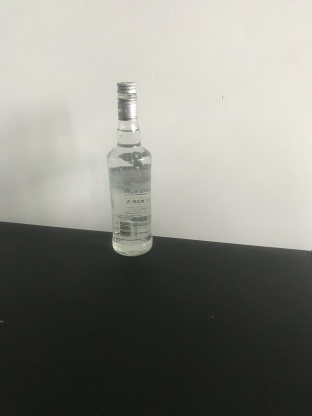nakretka: (115, 80, 138, 120)
